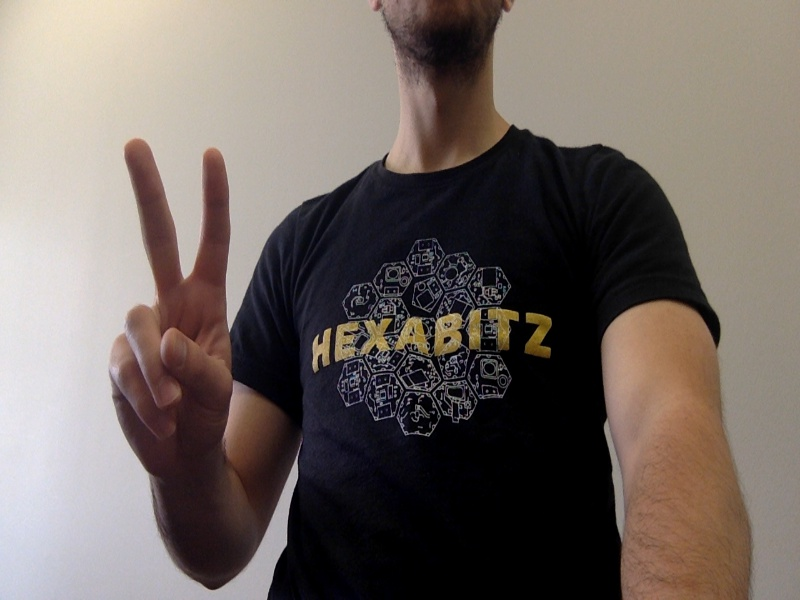2-hand: (109, 139, 231, 490)
